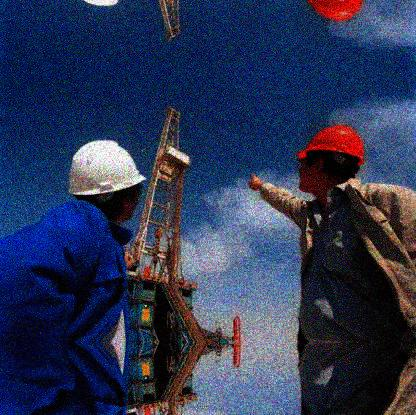helmet: (67, 141, 148, 223), (295, 126, 367, 197)
